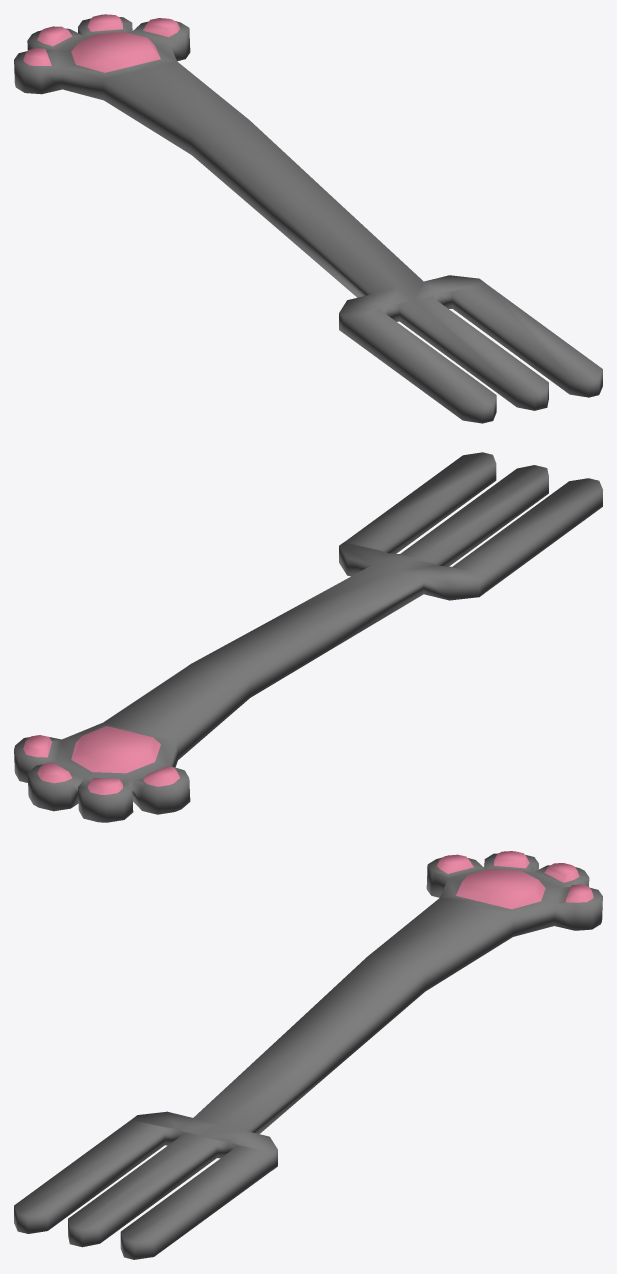
The model's file is fork.fbx.
3 renders of one model, top to bottom at view 1: azimuth 30°, elevation 25°; view 2: azimuth 150°, elevation 25°; view 3: azimuth 330°, elevation 25°, orthographic.
Parts seen in each view (by area): view 1: fork; view 2: fork; view 3: fork.
Boxes of the visible parts, bbox=[...] form: fork: bbox=[14, 14, 602, 423]; fork: bbox=[14, 452, 602, 822]; fork: bbox=[14, 851, 602, 1259].
Bounding box in the file's own units: 0.0364 × 0.0112 × 0.1805.
